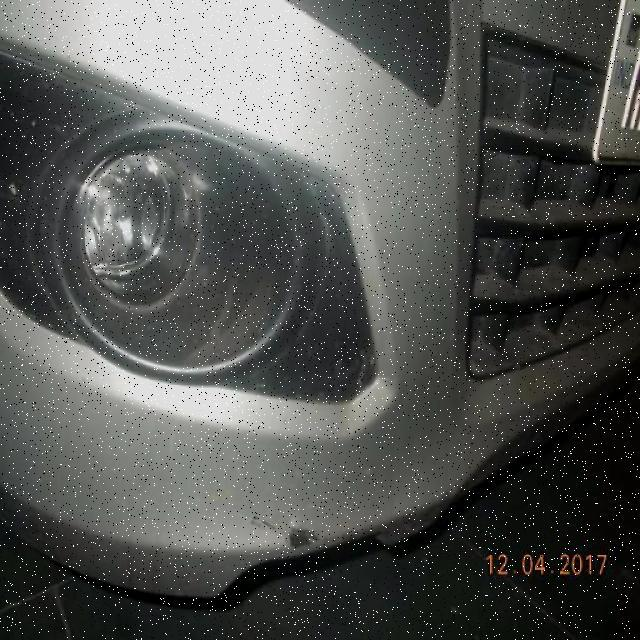car damage: (282, 517, 324, 552), (249, 512, 275, 539)
